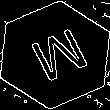M_SE: (20, 22, 90, 88)
